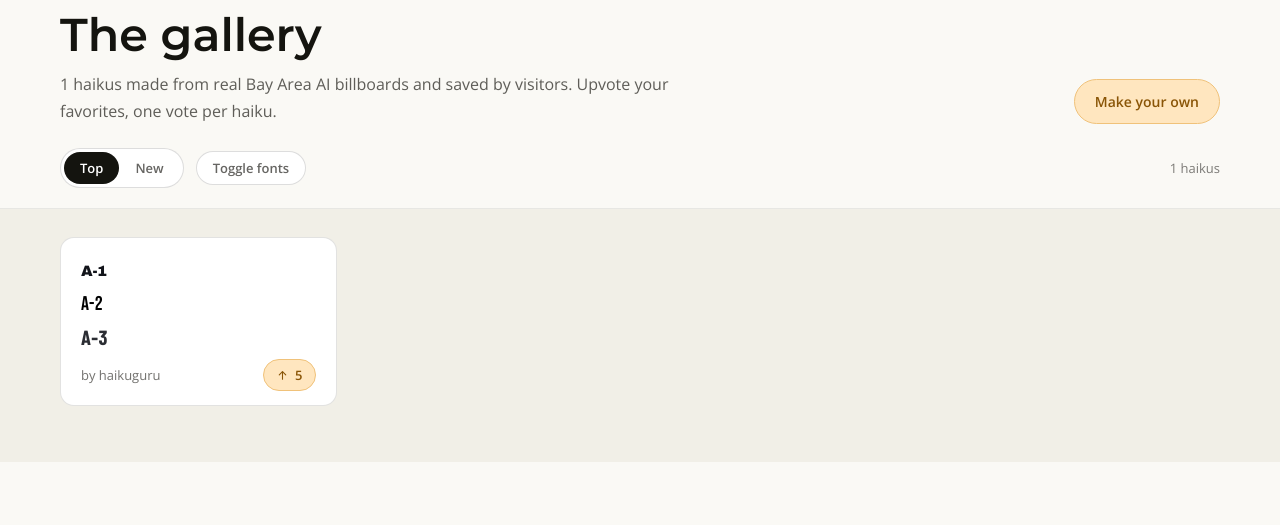
Test: GalleryPage › rolls back a failed upvote removal
The width and height of the screenshot is (1280, 525).
Click the button named "upvote" at (289, 375), box [263, 359, 316, 391]
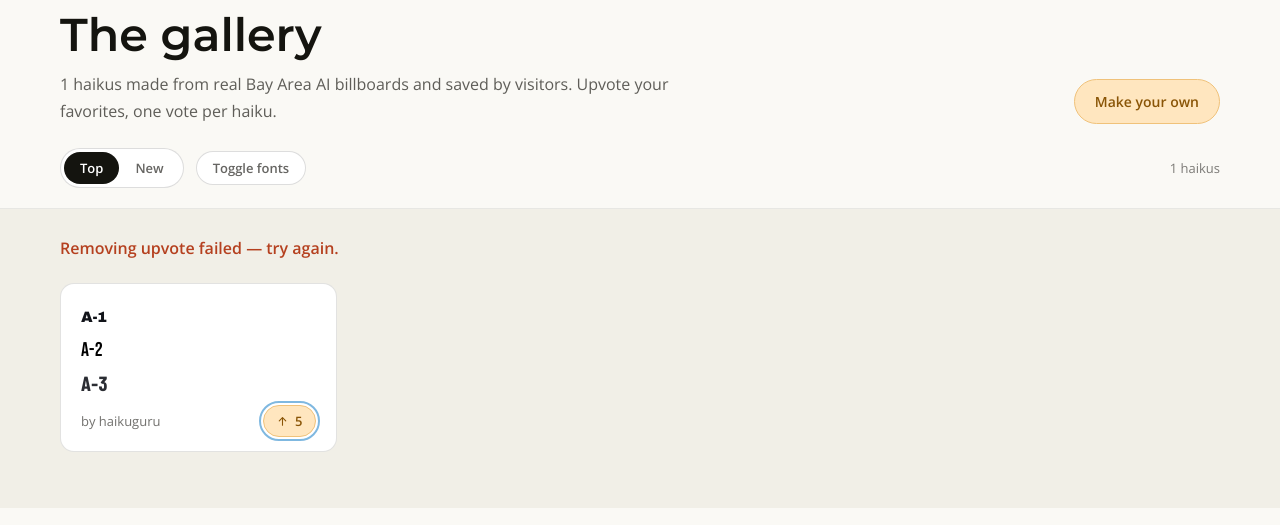
Expected: the button named "upvote" reads "5", [263, 405, 316, 437]
Expected: the text "Removing upvote failed — try again." is shown, [60, 237, 339, 259]
